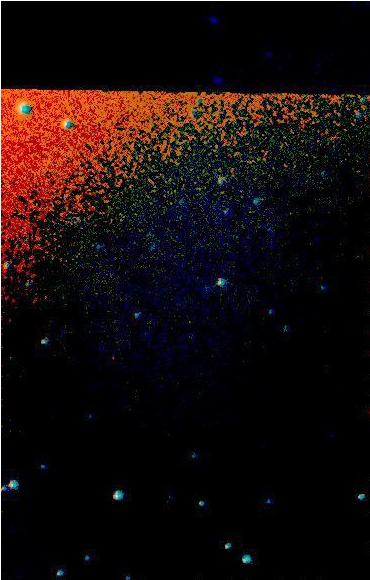star: (176, 298, 206, 328)
